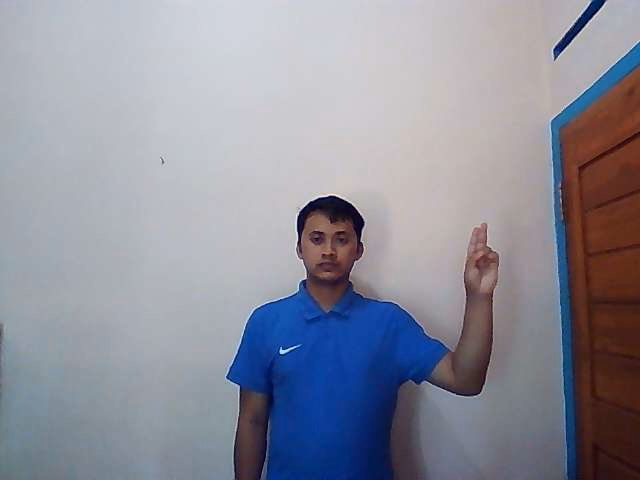U: (461, 220, 500, 295)
